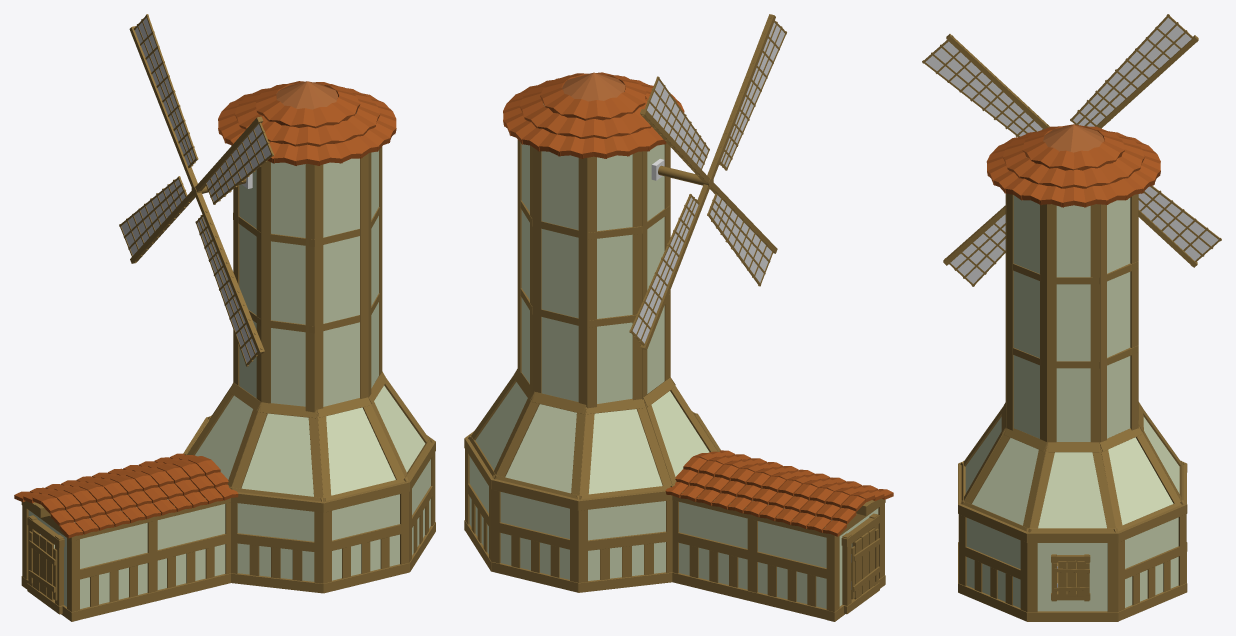
Rendered from windmill.glb.
The picture shows the model from 3 angles, left to right: view 1: azimuth 30°, elevation 25°; view 2: azimuth 150°, elevation 25°; view 3: azimuth 270°, elevation 25°; orthographic projection. The views are drawn at different scales.
Visible parts, largest first — view 1: Cube.006, Plank.211, Plank.006; view 2: Cube.006, Plank.211, Plank.006; view 3: Cube.006, Plank.211, Plank.012.
Boxes of the visible parts, <box> form: Cube.006: <box>14,81,435,621</box>; Plank.211: <box>119,14,273,366</box>; Plank.006: <box>28,530,57,600</box>; Cube.006: <box>464,72,893,621</box>; Plank.211: <box>629,14,786,350</box>; Plank.006: <box>851,528,880,599</box>; Cube.006: <box>958,124,1187,621</box>; Plank.211: <box>922,14,1221,286</box>; Plank.012: <box>1053,560,1089,597</box>.
Bounding box in the file's own units: 8.75 × 11.45 × 6.16.
